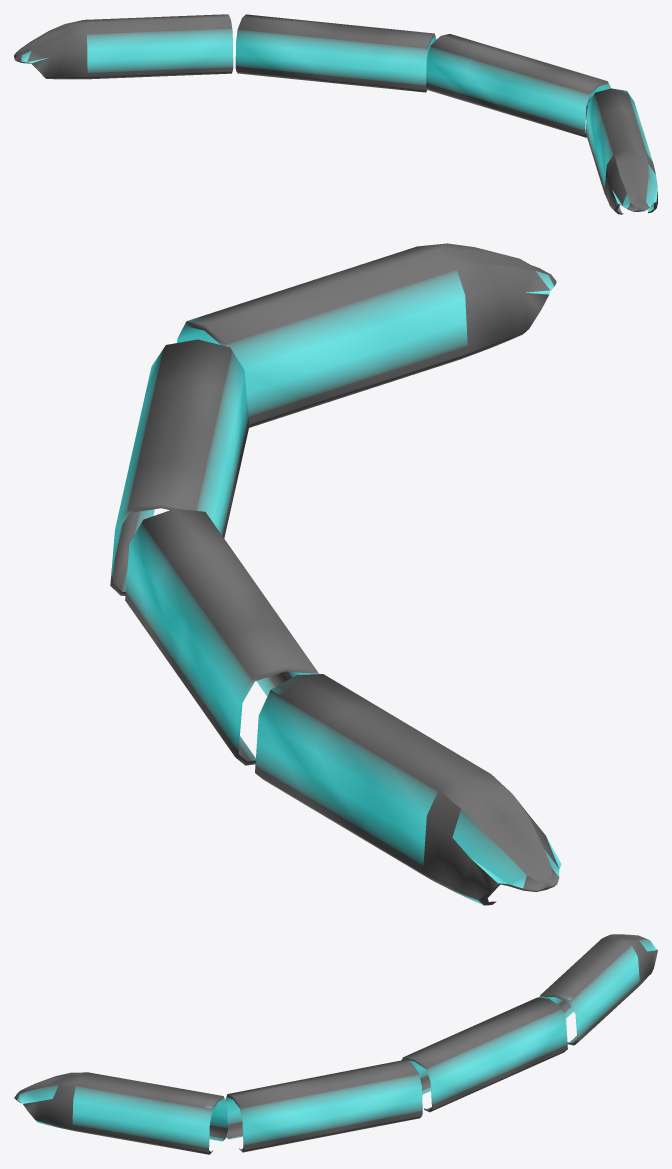
File: buildings_nodiffuse_v4_train.glb
3 views of the same model, one above another, from view 1: azimuth 30°, elevation 25°; view 2: azimuth 150°, elevation 25°; view 3: azimuth 270°, elevation 25° (orthographic). The views are drawn at different scales.
Parts seen in each view (by area): view 1: train_1, train_2, train_3, train_4; view 2: train_4, train_1, train_2, train_3; view 3: train_3, train_4, train_2, train_1.
Part boxes in pixels (x1=…): train_1: x1=14, y1=14, x2=233, y2=79; train_2: x1=235, y1=14, x2=436, y2=92; train_3: x1=426, y1=34, x2=610, y2=137; train_4: x1=585, y1=88, x2=657, y2=214; train_4: x1=177, y1=243, x2=556, y2=427; train_1: x1=255, y1=674, x2=561, y2=905; train_2: x1=125, y1=509, x2=318, y2=765; train_3: x1=110, y1=339, x2=249, y2=595; train_3: x1=225, y1=1059, x2=422, y2=1152; train_4: x1=14, y1=1072, x2=227, y2=1154; train_2: x1=401, y1=997, x2=567, y2=1112; train_1: x1=539, y1=934, x2=657, y2=1045.
Bounding box in the file's own units: 25.42 × 2.84 × 34.65.
